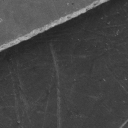corrosion: (102, 77, 107, 82)
